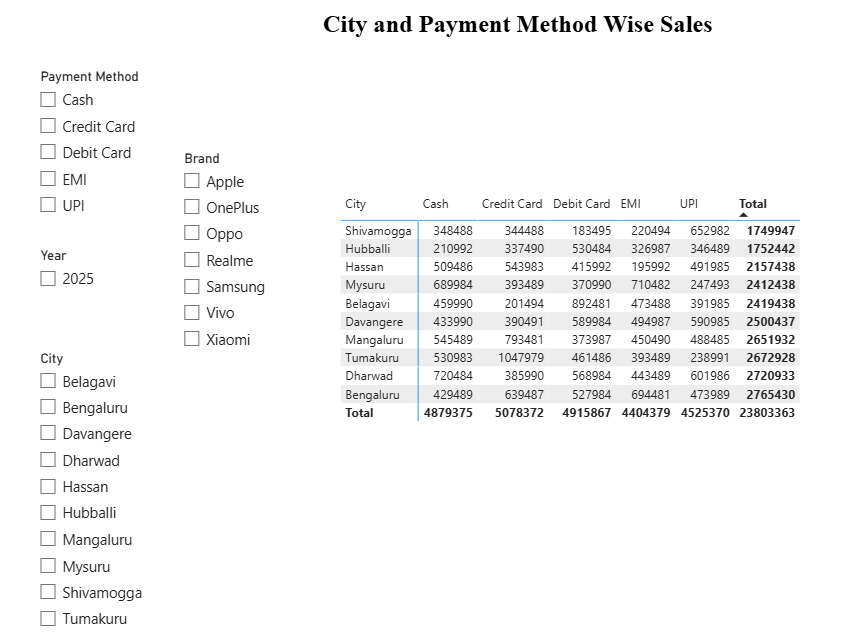

Layout of this report page (visuals, bound fields, positions):
{"tool":"powerbi","page":{"name":"Page 2","canvas":[1280,720],"ordinal":1},"visuals":[{"type":"slicer","fields":{"Values":["Sales.Payment Method"]},"box":[10,91.1,154.4,177.8],"z":0},{"type":"slicer","fields":{"Values":["Sales.Date.Variation.Date Hierarchy.Year"]},"box":[5.6,286.7,136.7,73.3],"z":1000},{"type":"slicer","fields":{"Values":["Sales.City"]},"box":[0,400,146.7,320],"z":2000},{"type":"slicer","fields":{"Values":["Sales.Brand"]},"box":[181.1,180,131.1,256.7],"z":3000},{"type":"pivotTable","fields":{"Rows":["Sales.City"],"Columns":["Sales.Payment Method"],"Values":["Sum(Sales.Total Sales)"]},"box":[324.4,197.8,522.2,273.3],"z":4000},{"type":"textbox","box":[324.4,25.6,522.2,45.6],"z":5000}]}

Visuals, with their boxes on the page's 1280x720 design canvas (x1, y1, x2, y2). These are canvas units, not pixel positions in the 853x633 screenshot, which may show the page scaled, cropped or inside an application window:
slicer - Sales.Payment Method: 10,91,164,269
slicer - Sales.Date.Variation.Date Hierarchy.Year: 6,287,142,360
slicer - Sales.City: 0,400,147,720
slicer - Sales.Brand: 181,180,312,437
pivotTable - Sales.City x Sales.Payment Method: 324,198,847,471
textbox: 324,26,847,71
